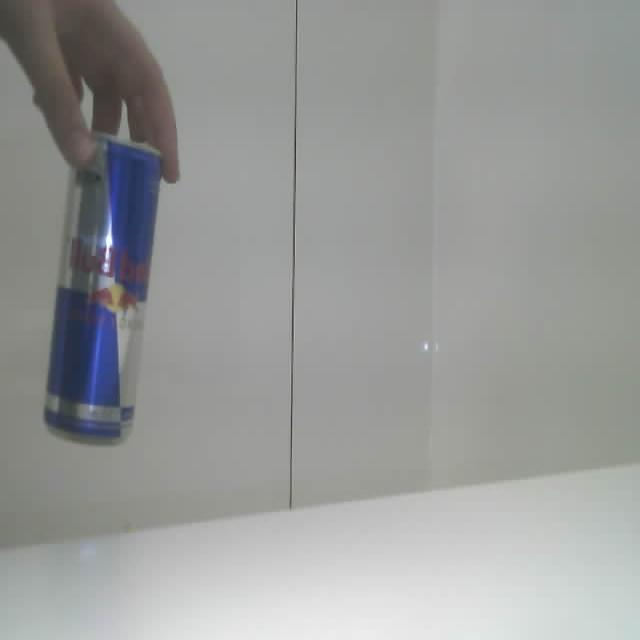redbull can: (44, 135, 160, 442)
